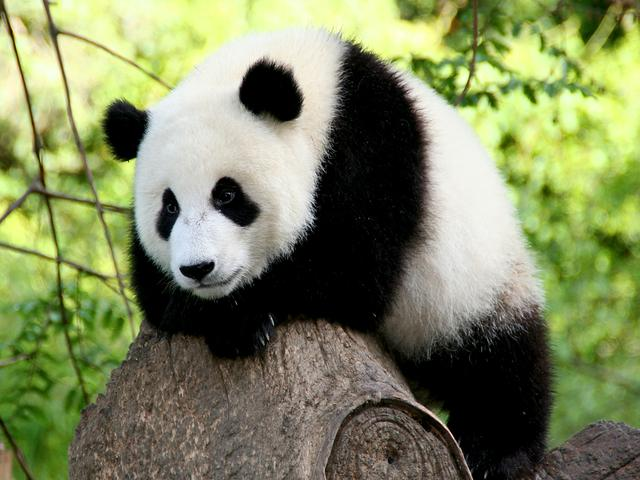panda: (86, 18, 576, 448)
